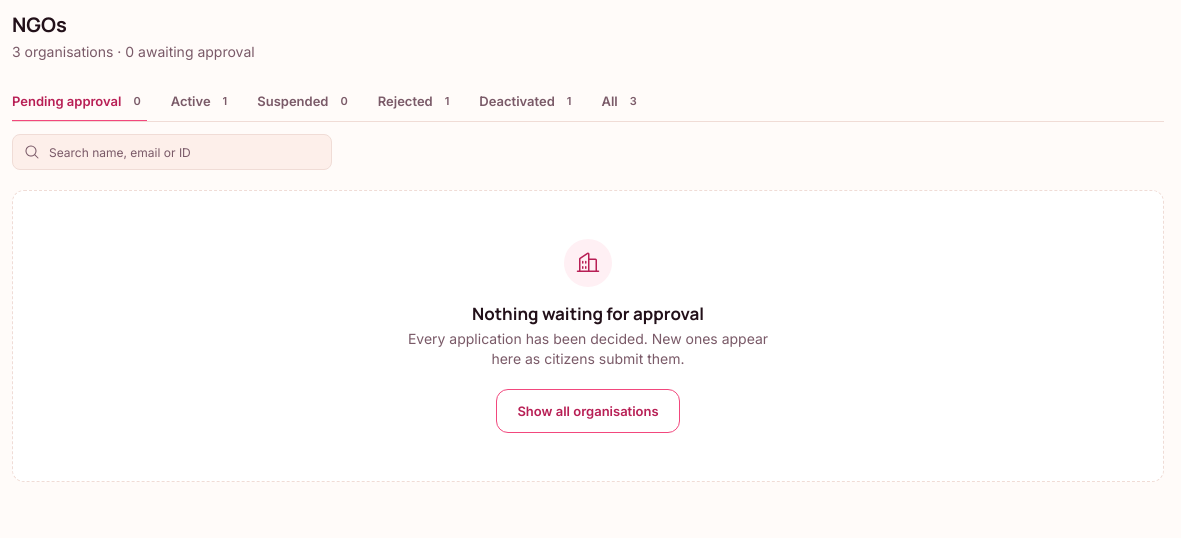
Test: NgosPage › says nothing is waiting — not an error — when there are no pending applications
This screenshot has width=1181, height=538.
Expected: the heading "Nothing waiting for approval" is shown, [472, 303, 704, 325]
Click the button named "Show all organisations" at (588,411), box [496, 389, 680, 433]
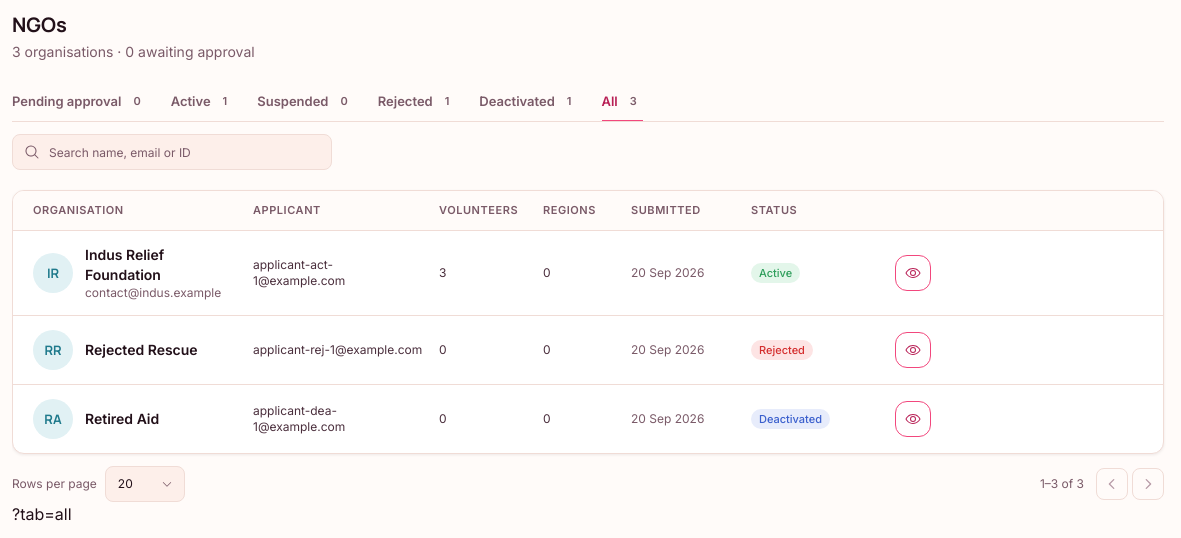
Expected: the text "Indus Relief Foundation" is shown, [85, 246, 164, 283]
